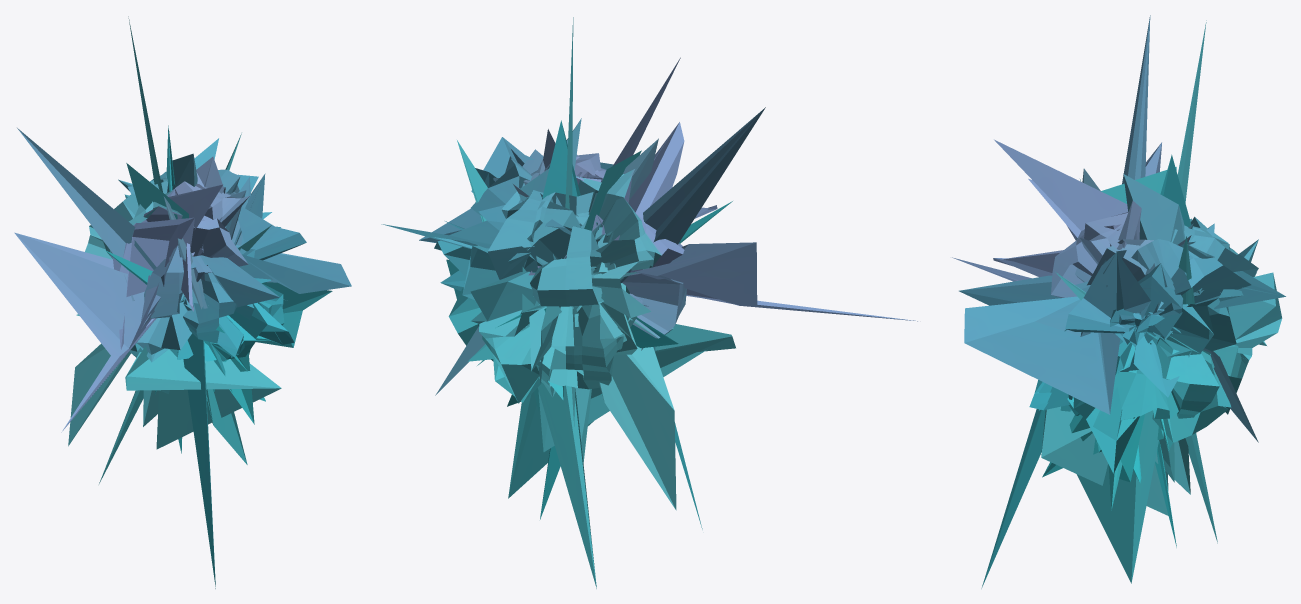
File: tealspike.obj
3 views of the same model, side by side, from view 1: azimuth 30°, elevation 25°; view 2: azimuth 150°, elevation 25°; view 3: azimuth 270°, elevation 25° (orthographic). The views are drawn at different scales.
Parts seen in each view (by area): view 1: Sphere; view 2: Sphere; view 3: Sphere.
Boxes of the visible parts, bbox=[...] form: Sphere: bbox=[14, 16, 351, 588]; Sphere: bbox=[381, 17, 917, 588]; Sphere: bbox=[952, 15, 1285, 588].
Bounding box in the file's own units: 241 × 330 × 174.
1 material, 1 textured.
